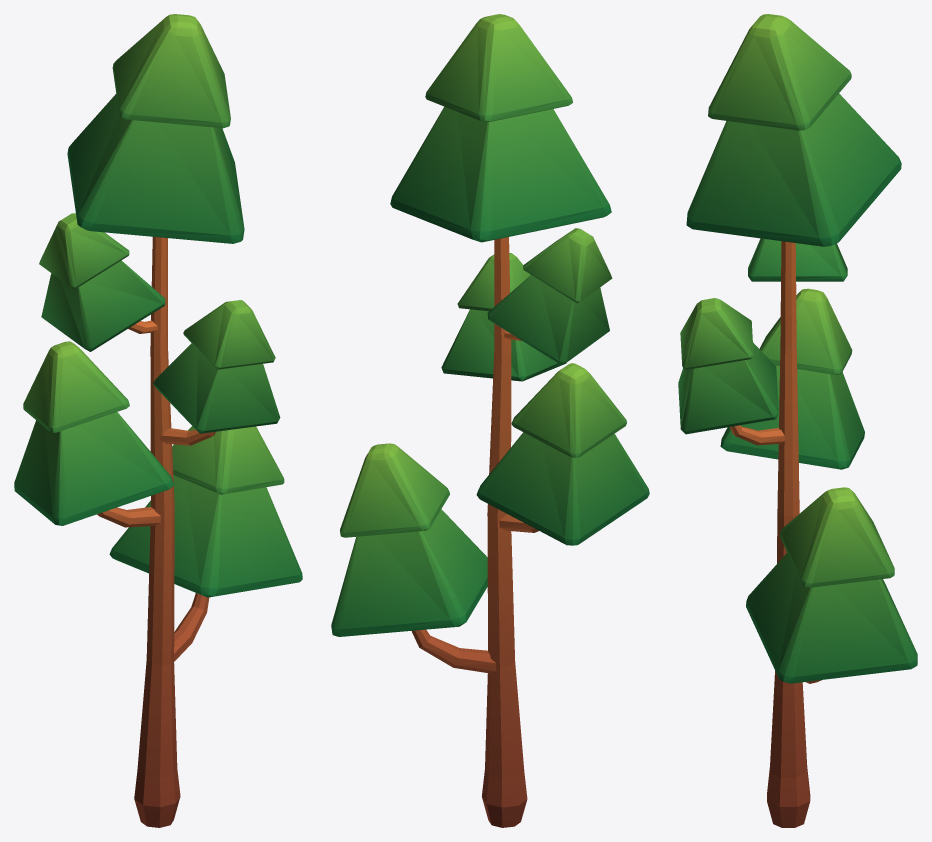
File: kf_tree_4_c.fbx
3 renders of one model, left to right at view 1: azimuth 30°, elevation 25°; view 2: azimuth 150°, elevation 25°; view 3: azimuth 270°, elevation 25°, orthographic. The views are drawn at different scales.
Parts seen in each view (by area): view 1: kf_tree_4_c_LOD0; view 2: kf_tree_4_c_LOD0; view 3: kf_tree_4_c_LOD0.
Part boxes in pixels (x1=…): kf_tree_4_c_LOD0: x1=14, y1=14, x2=302, y2=827; kf_tree_4_c_LOD0: x1=331, y1=14, x2=649, y2=827; kf_tree_4_c_LOD0: x1=678, y1=14, x2=917, y2=827.
Size of what is drawn, in the model's own units: 4.3 by 12.39 by 3.3.
